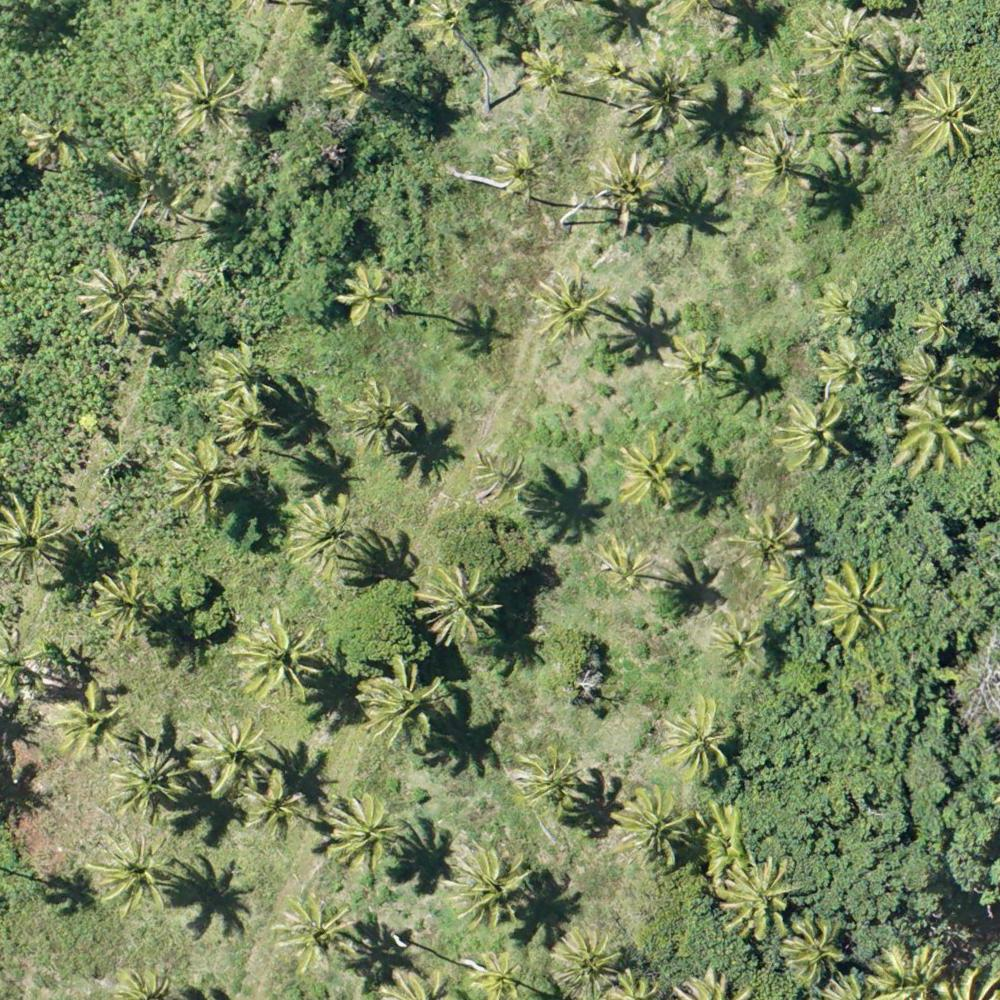Palm: (237, 614, 328, 702), (357, 660, 441, 754), (167, 51, 251, 141), (86, 832, 169, 915), (908, 74, 986, 161), (411, 563, 495, 643), (893, 401, 978, 478), (76, 256, 152, 342), (455, 852, 533, 930), (815, 562, 892, 641), (665, 697, 739, 778), (1, 495, 69, 583), (617, 785, 690, 865), (276, 898, 352, 974), (112, 741, 188, 816), (805, 8, 876, 88), (290, 491, 353, 581), (721, 860, 795, 936), (192, 723, 268, 797), (533, 273, 612, 344), (328, 793, 401, 869), (616, 429, 689, 504), (168, 439, 235, 517), (690, 799, 755, 879), (628, 68, 699, 141), (345, 382, 416, 455), (776, 396, 846, 470), (728, 512, 805, 579), (748, 125, 820, 196), (550, 929, 624, 997), (778, 915, 848, 985), (493, 138, 562, 207), (321, 44, 387, 116), (521, 745, 587, 816), (871, 940, 949, 1000), (595, 148, 665, 214), (91, 573, 156, 641), (664, 335, 733, 398), (55, 689, 118, 756), (241, 773, 304, 838), (337, 264, 401, 327), (899, 346, 962, 407), (409, 1, 473, 60), (211, 336, 272, 397), (589, 533, 653, 591), (467, 447, 531, 504), (216, 400, 278, 456), (816, 336, 876, 393), (22, 111, 80, 168), (467, 951, 529, 1000), (813, 279, 868, 333), (713, 615, 770, 667), (519, 43, 569, 100), (768, 72, 815, 118), (914, 305, 961, 344)
